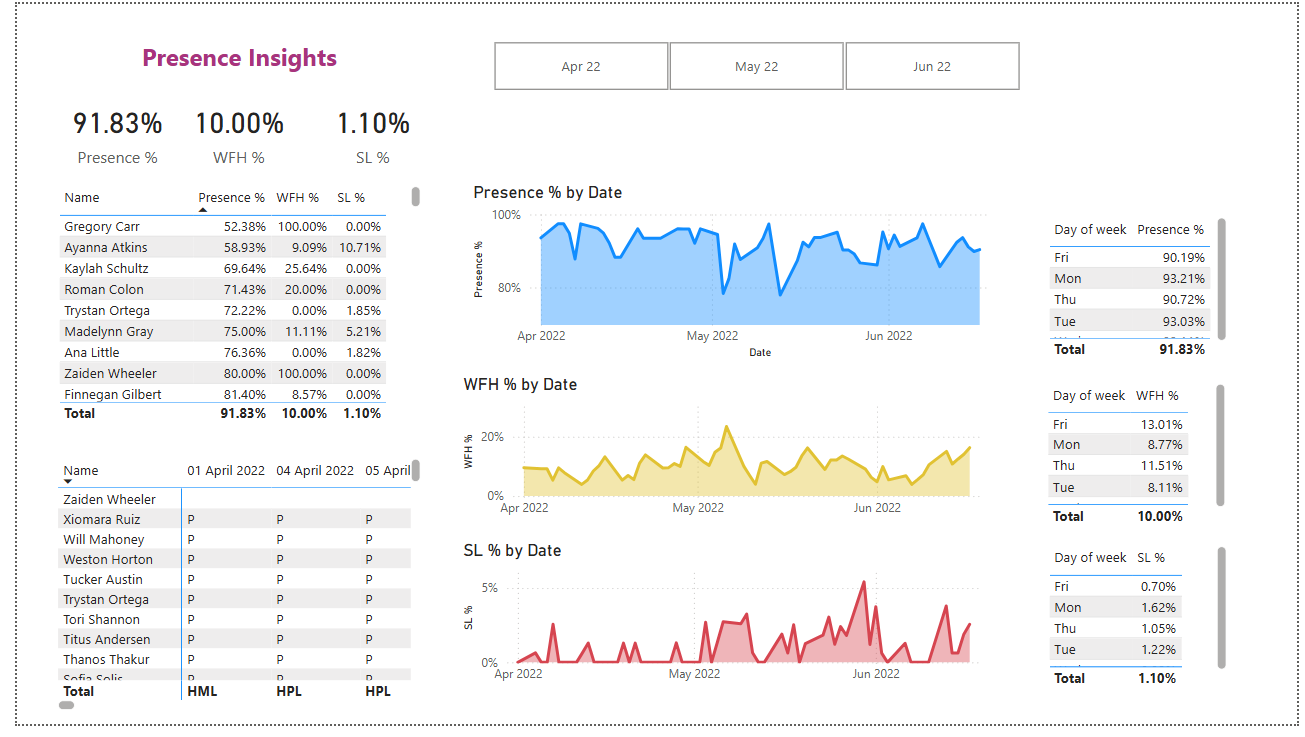

The page's visual inventory and layout, read from the dashboard file:
{"tool":"powerbi","page":{"name":"Presence Overview","canvas":[1280,720],"ordinal":0},"visuals":[{"type":"card","fields":{"Values":["Measure Table.Presence %"]},"box":[1.1,78.2,199,98.8],"z":0},{"type":"slicer","fields":{"Values":["Final Data.1 Month"]},"box":[451.5,31.6,575,61.7],"z":1000},{"type":"card","fields":{"Values":["Measure Table.WFH %"]},"box":[156.2,78.2,131.7,98.8],"z":2000},{"type":"card","fields":{"Values":["Measure Table.SL %"]},"box":[288.2,78.2,134.5,98.8],"z":3000},{"type":"tableEx","fields":{"Values":["Final Data.Name","Measure Table.Presence %","Measure Table.WFH %","Measure Table.SL %"]},"box":[35.7,177,371.9,245.6],"z":4000},{"type":"textbox","box":[35.7,31.6,371.9,46.7],"z":5000},{"type":"pivotTable","fields":{"Rows":["Final Data.Name"],"Values":["Final Data.Value"],"Columns":["Final Data.Date"]},"box":[35.7,450.1,371.9,260.7],"z":6000},{"type":"stackedAreaChart","fields":{"Category":["Final Data.Date"],"Y":["Measure Table.Presence %"]},"box":[451.5,177,540.7,182.5],"z":7000},{"type":"stackedAreaChart","fields":{"Category":["Final Data.Date"],"Y":["Measure Table.WFH %"]},"box":[441.9,370.5,540.7,152.3],"z":7001},{"type":"stackedAreaChart","fields":{"Category":["Final Data.Date"],"Y":["Measure Table.SL %"]},"box":[441.9,536.5,540.7,152.3],"z":7002},{"type":"tableEx","fields":{"Values":["Final Data.1 Day of week","Measure Table.Presence %"]},"box":[1026.4,208.6,188,150.9],"z":7003},{"type":"tableEx","fields":{"Values":["Final Data.1 Day of week","Measure Table.WFH %"]},"box":[1025,374.6,188,150.9],"z":7004},{"type":"tableEx","fields":{"Values":["Final Data.1 Day of week","Measure Table.SL %"]},"box":[1026.4,537.9,188,150.9],"z":7005}]}

Visuals, with their boxes in screenshot pixels (x1, y1, x2, y2), scaled from the page's 1280x720 canvas onto the 1305x737 screenshot:
card - Measure Table.Presence %: 1/80/204/181
slicer - Final Data.1 Month: 460/32/1047/96
card - Measure Table.WFH %: 159/80/294/181
card - Measure Table.SL %: 294/80/431/181
tableEx - Final Data.Name x Measure Table.Presence %: 36/181/416/433
textbox: 36/32/416/80
pivotTable - Final Data.Name x Final Data.Value: 36/461/416/728
stackedAreaChart - Final Data.Date x Measure Table.Presence %: 460/181/1012/368
stackedAreaChart - Final Data.Date x Measure Table.WFH %: 451/379/1002/535
stackedAreaChart - Final Data.Date x Measure Table.SL %: 451/549/1002/705
tableEx - Final Data.1 Day of week x Measure Table.Presence %: 1046/214/1238/368
tableEx - Final Data.1 Day of week x Measure Table.WFH %: 1045/383/1237/538
tableEx - Final Data.1 Day of week x Measure Table.SL %: 1046/551/1238/705
